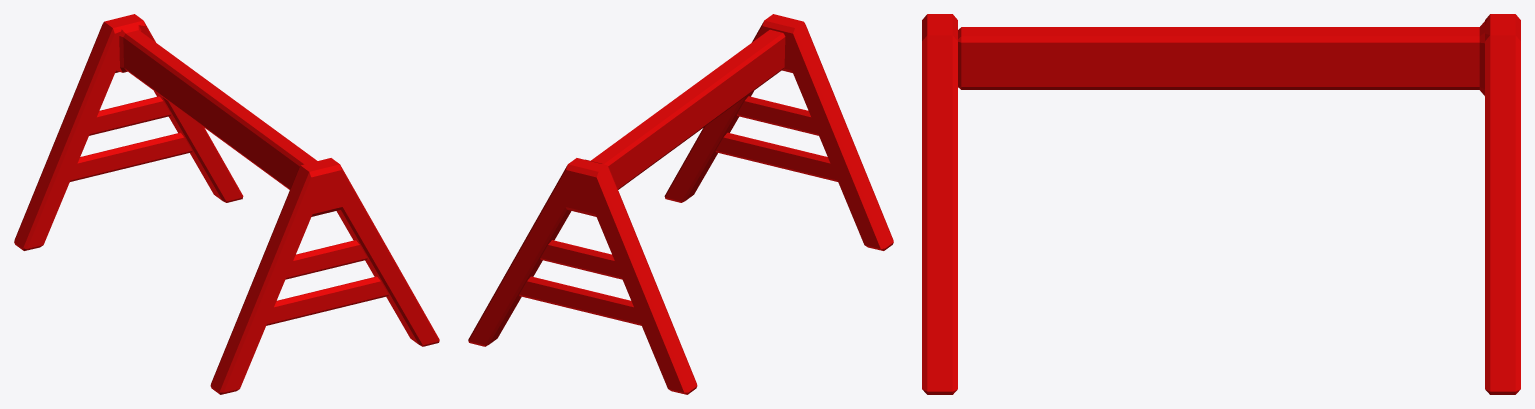
File: roadblock1.fbx
3 views of the same model, side by side, from view 1: azimuth 30°, elevation 25°; view 2: azimuth 150°, elevation 25°; view 3: azimuth 270°, elevation 25° (orthographic). The views are drawn at different scales.
Visible parts, largest first — view 1: Cube.001; view 2: Cube.001; view 3: Cube.001.
Boxes of the visible parts, x1,y1,x2,y2 form: Cube.001: [14, 14, 439, 394]; Cube.001: [468, 14, 893, 394]; Cube.001: [922, 14, 1520, 394].
Bounding box in the file's own units: 140 × 123 × 230.
